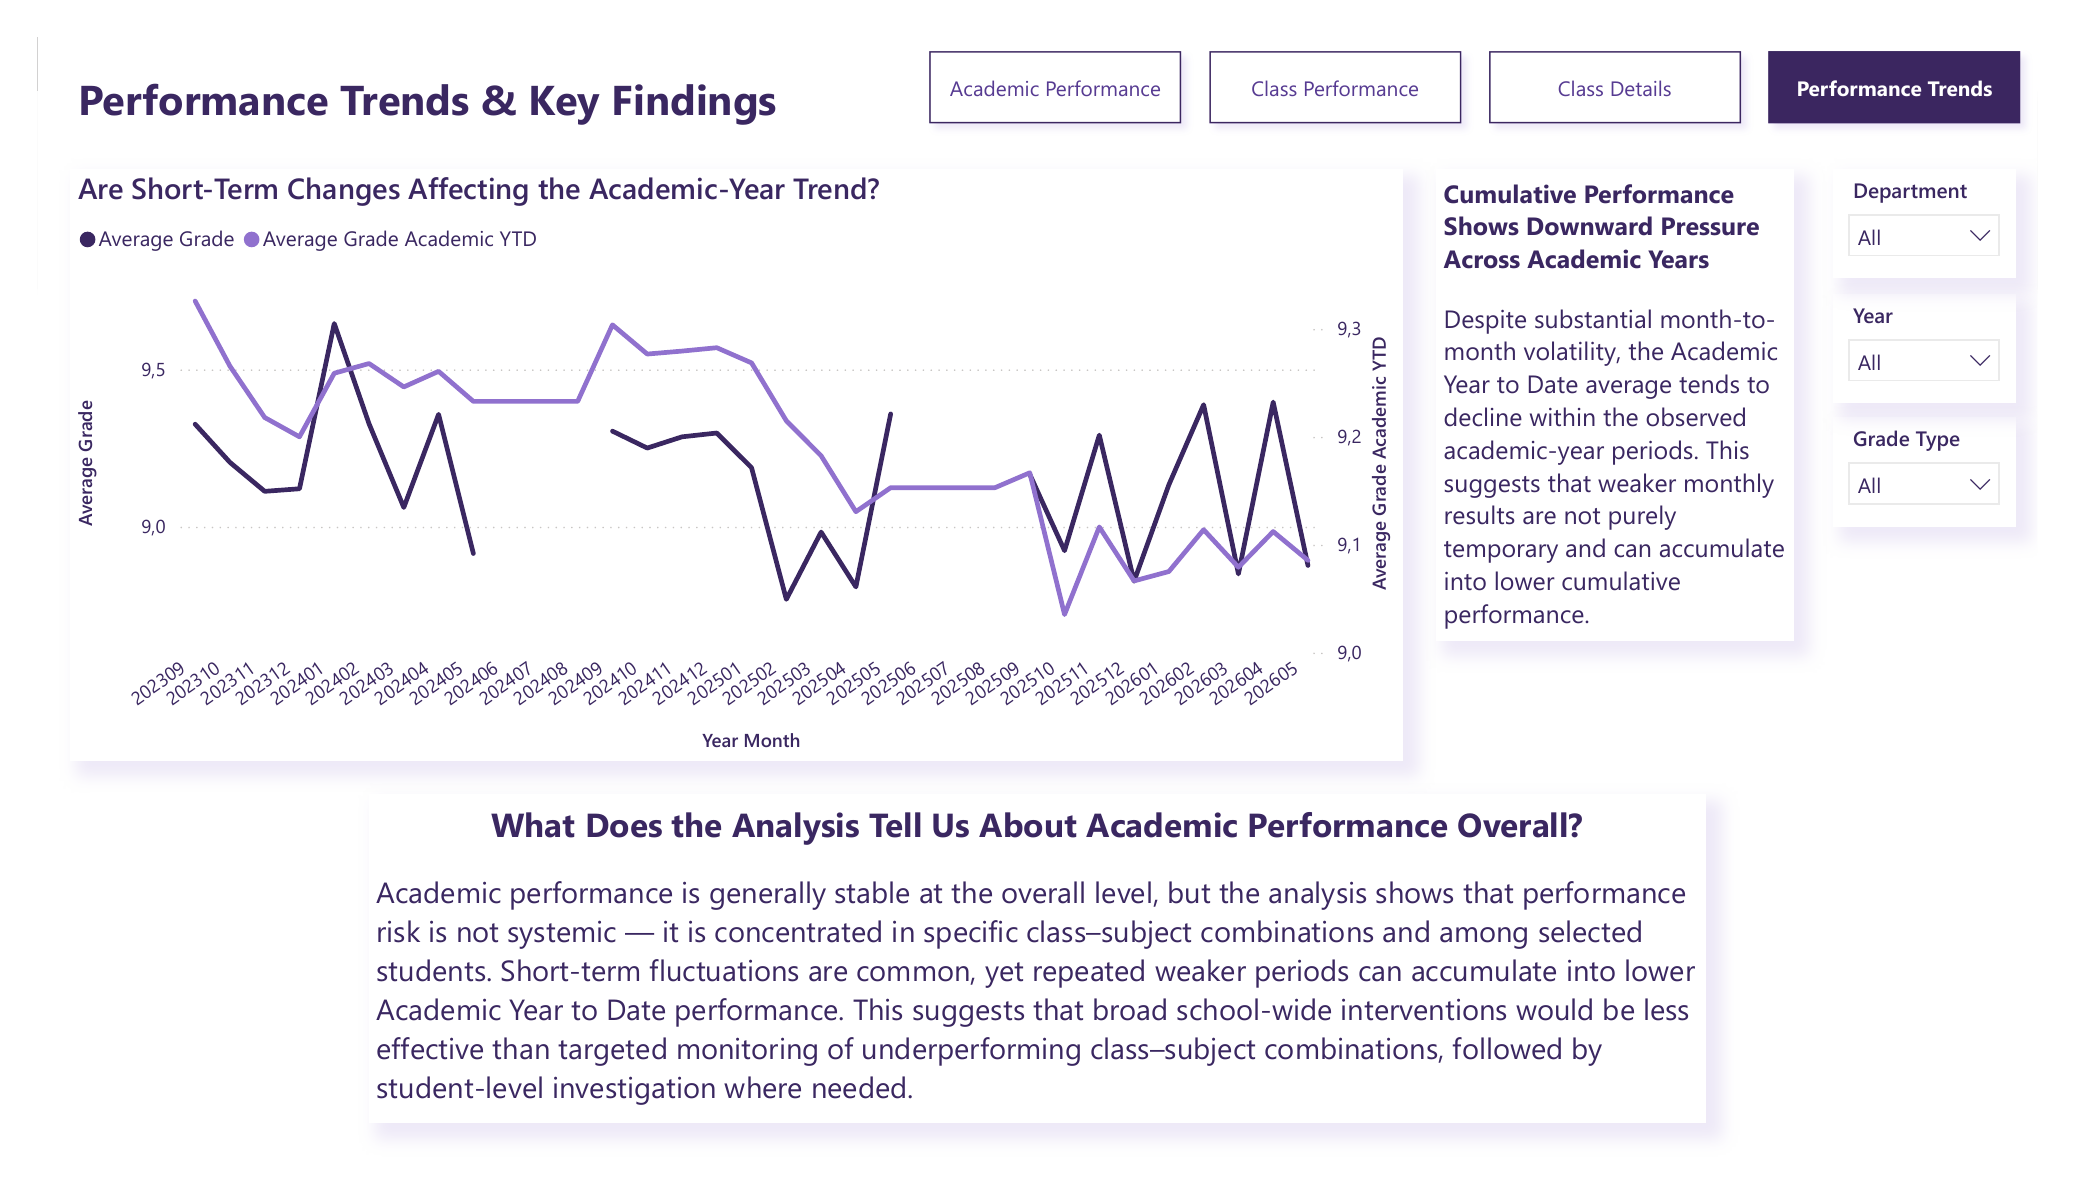

The dashboard page shown, as its layout file describes it:
{"tool":"powerbi","page":{"name":"Performance Trends","canvas":[1280,720],"ordinal":4},"visuals":[{"type":"lineChart","title":"Are Short-Term Changes Affecting the Academic-Year Trend?","fields":{"Category":["dim_Date.YearMonth"],"Y":["_Measures.Average Grade"],"Y2":["_Measures.Average Grade YTD"]},"box":[21.2,83.7,853,379.3],"z":0},{"type":"textbox","box":[21.2,15.9,466.2,48.7],"z":1000},{"type":"slicer","fields":{"Values":["fact_table_grades.grade_type"]},"box":[1148.6,243.3,117.5,70.1],"z":2000},{"type":"slicer","fields":{"Values":["periods.academic_year"]},"box":[1148.6,163.7,117.5,70.1],"z":3000},{"type":"slicer","fields":{"Values":["subjects.department_hint"]},"box":[1148.6,84.1,117.5,70.1],"z":4000},{"type":"textbox","box":[895.4,83.7,228.9,302],"z":5000},{"type":"textbox","box":[211.9,484.2,856.2,210.9],"z":6000},{"type":"pageNavigator","box":[562.1,0,717.9,63.6],"z":7000}]}

Visuals, with their boxes on the page's 1280x720 design canvas (x1, y1, x2, y2). These are canvas units, not pixel positions in the 2075x1200 screenshot, which may show the page scaled, cropped or inside an application window:
"Are Short-Term Changes Affecting the Academic-Year Trend?" lineChart: locate(21, 84, 874, 463)
textbox: locate(21, 16, 487, 65)
slicer - fact_table_grades.grade_type: locate(1149, 243, 1266, 313)
slicer - periods.academic_year: locate(1149, 164, 1266, 234)
slicer - subjects.department_hint: locate(1149, 84, 1266, 154)
textbox: locate(895, 84, 1124, 386)
textbox: locate(212, 484, 1068, 695)
pageNavigator: locate(562, 0, 1280, 64)
